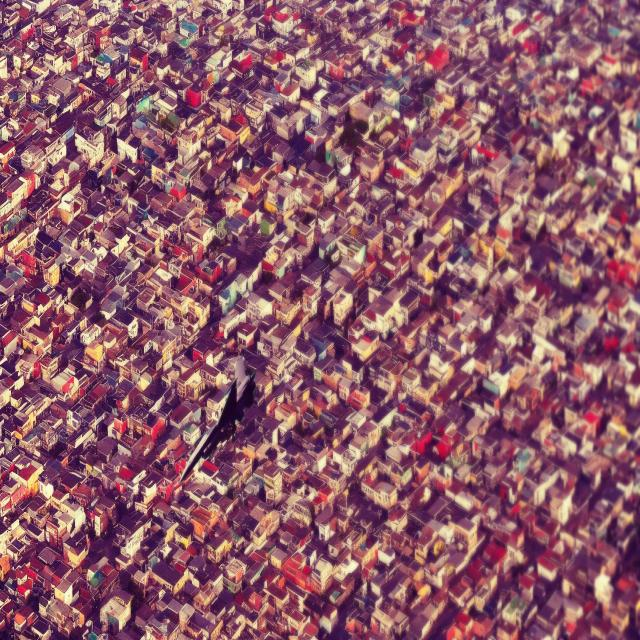airplane: (180, 372, 256, 483)
